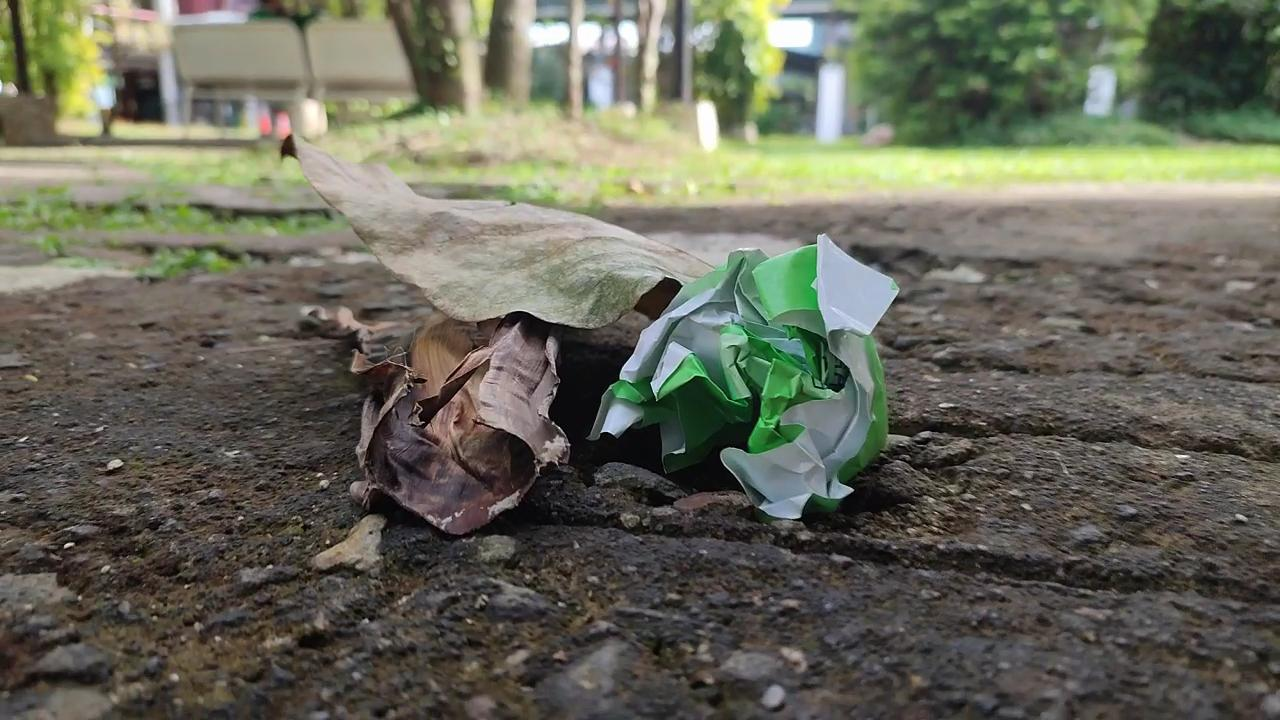Paper: (576, 221, 906, 544)
